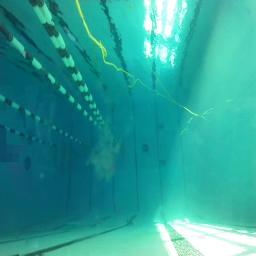Full: (158, 159, 167, 165), (142, 148, 150, 153)
